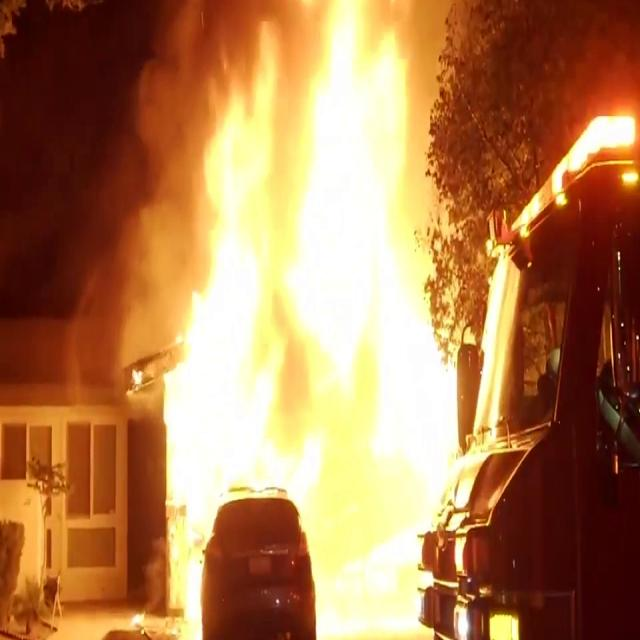fire: (243, 0, 410, 493), (159, 0, 297, 474), (303, 0, 400, 631)
smoke: (12, 4, 127, 328)
